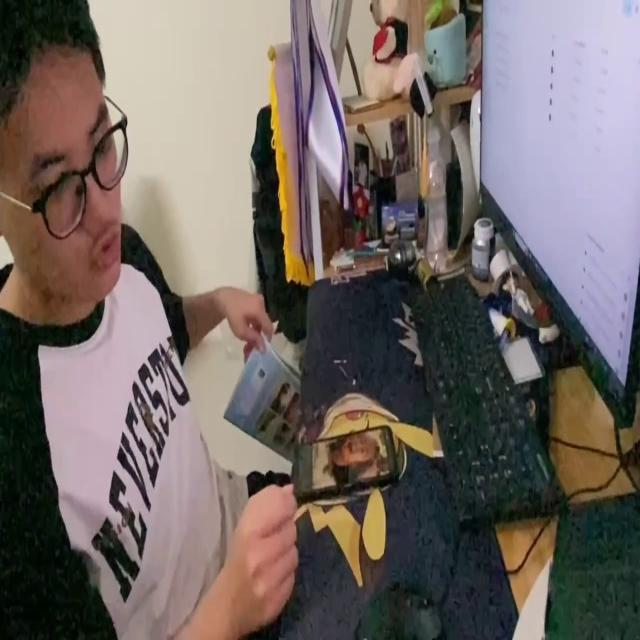book: (220, 330, 300, 466)
laptop: (479, 1, 640, 428)
phone: (286, 422, 402, 498)
student: (1, 0, 299, 640)
